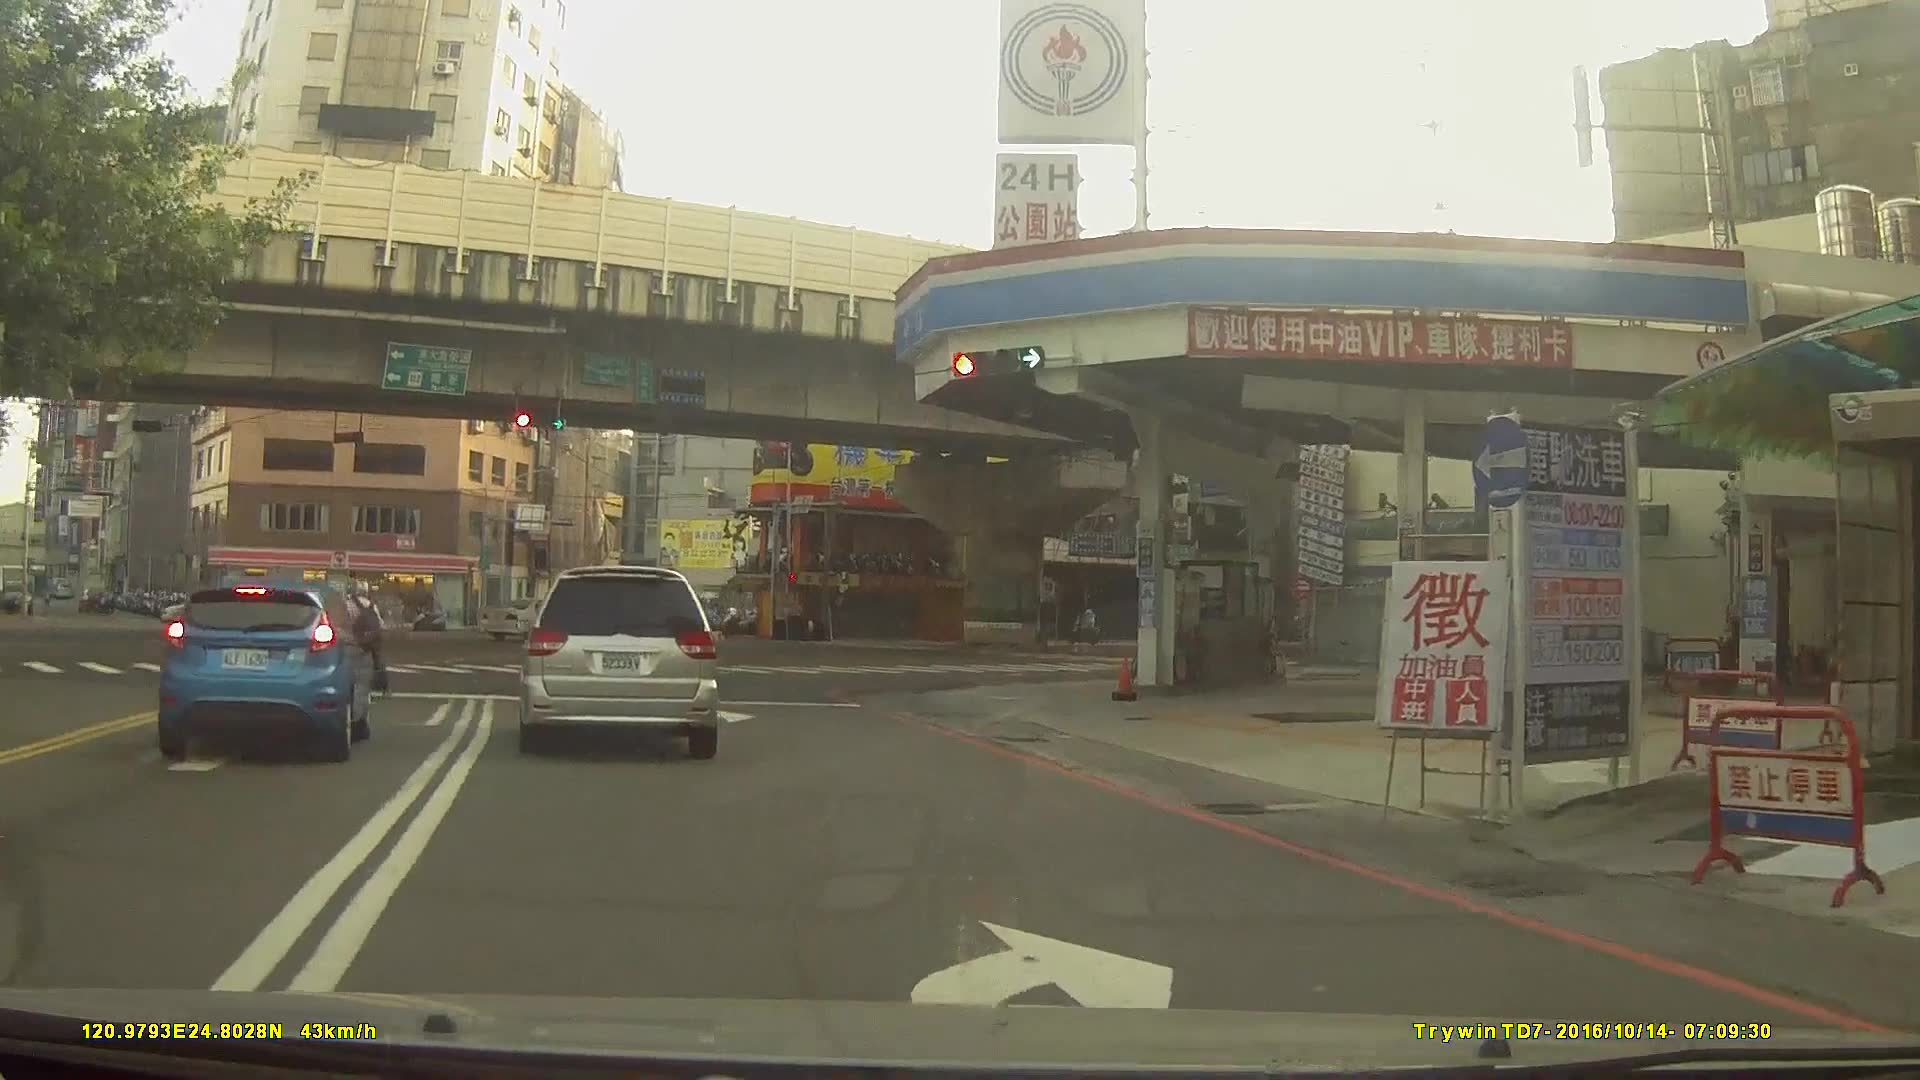rider: (337, 578, 396, 711)
vehicle: (153, 574, 374, 761), (514, 561, 719, 757), (185, 584, 314, 635), (479, 597, 585, 641)
